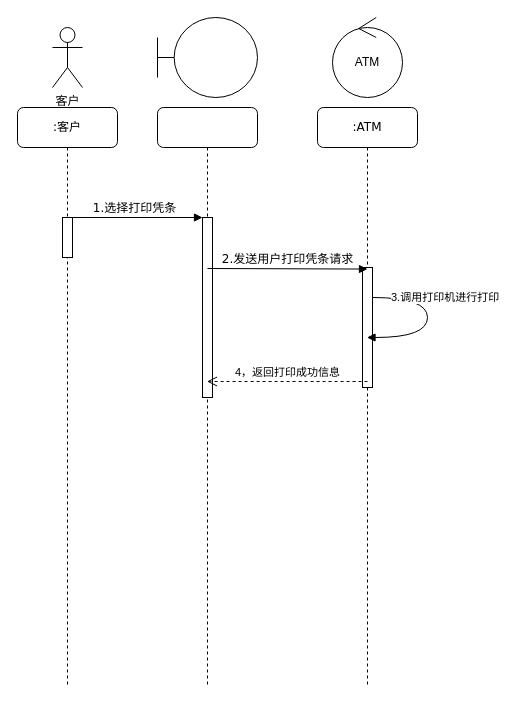
The diagram is 517 pixels wide and 705 high, and some of its shapes have lost their labels. Each missing label, with the centre of its shape:
:操作界面: point 207,397
操作界面: point 207,57
